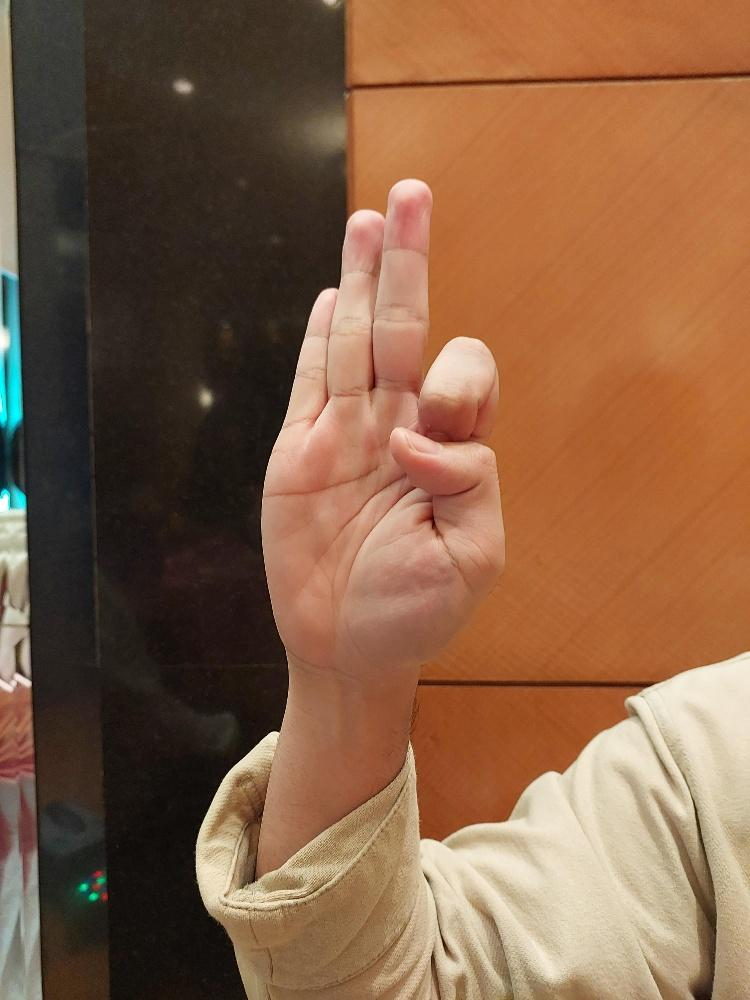f: (258, 174, 508, 676)
